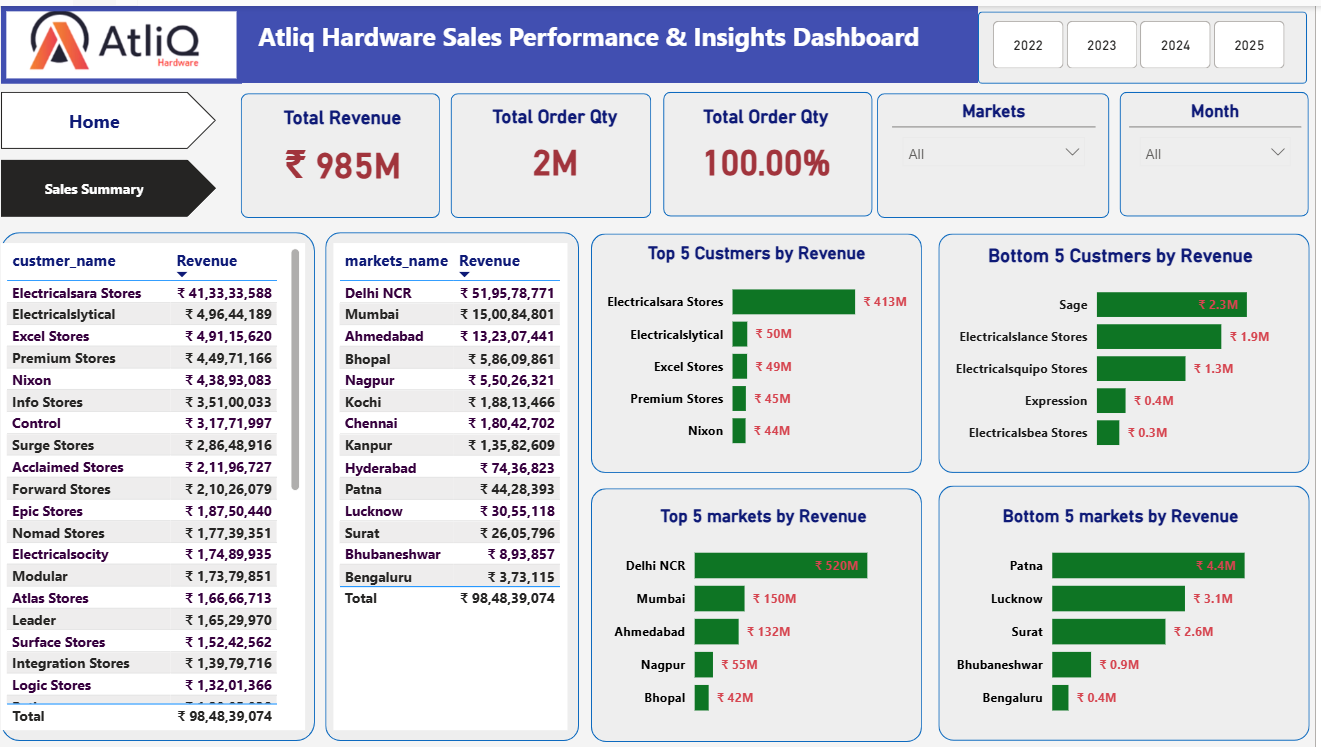

Layout of this report page (visuals, bound fields, positions):
{"tool":"powerbi","page":{"name":"Sales Summary","canvas":[1280,720],"ordinal":1},"visuals":[{"type":"textbox","box":[145.8,0,809.8,74.5],"z":0},{"type":"image","box":[13.8,0,231.9,74.5],"z":1000},{"type":"shape","box":[13.8,218.1,302.3,490],"z":2000},{"type":"shape","box":[327.1,218.1,244.3,490],"z":3000},{"type":"shape","box":[245.7,84.2,191.9,120.1],"z":4000},{"type":"shape","box":[955.6,4.8,316.9,69.7],"z":5000},{"type":"shape","box":[447.2,84.2,193.2,120.1],"z":6000},{"type":"advancedSlicerVisual","fields":{"Values":["transactions.year"]},"box":[969.9,9.5,286.8,55.5],"z":7000},{"type":"tableEx","fields":{"Values":["customers.custmer_name","transactions.Revenue"]},"box":[13.8,227.7,292.6,469.3],"z":8000},{"type":"tableEx","fields":{"Values":["markets.markets_name","transactions.Revenue"]},"box":[334.4,228.2,225,469.1],"z":9000},{"type":"shape","box":[582.5,219.5,318.8,230.5],"z":10000},{"type":"shape","box":[916.5,219.5,357.5,230.5],"z":11000},{"type":"shape","box":[582.5,463.8,318.8,244.3],"z":12000},{"type":"shape","box":[916.5,462.4,357.5,245.7],"z":13000},{"type":"barChart","title":"Top 5 Custmers by  Revenue ","fields":{"Category":["customers.custmer_name"],"Y":["transactions.Revenue"]},"box":[591.1,228.2,301.1,210.8],"z":14000},{"type":"barChart","title":"Bottom 5 Custmers by Revenue","fields":{"Category":["customers.custmer_name"],"Y":["transactions.Revenue"]},"box":[927.5,229.1,329.9,211.2],"z":15000},{"type":"barChart","title":"Top 5 markets by Revenue","fields":{"Y":["transactions.Revenue"],"Category":["markets.markets_name"]},"box":[597.7,481.7,300.9,215.3],"z":16000},{"type":"barChart","title":"Bottom 5 markets by Revenue","fields":{"Y":["transactions.Revenue"],"Category":["markets.markets_name"]},"box":[927.5,481.7,329.9,215.3],"z":17000},{"type":"card","title":"Total Revenue","fields":{"Values":["transactions.Revenue"]},"box":[258.1,92.5,169.8,99.4],"z":18000},{"type":"card","title":"Total Order Qty","fields":{"Values":["transactions.Total_orders_qty"]},"box":[465.1,91.1,164.3,100.8],"z":19000},{"type":"pageNavigator","box":[13.8,82.8,207,121.5],"z":20000},{"type":"shape","box":[651.5,82.8,201.5,120.1],"z":21000},{"type":"card","title":"Total Order Qty","fields":{"Values":["transactions.Sales_Percentage"]},"box":[661.1,91.1,179.4,100.8],"z":22000},{"type":"shape","box":[858.5,84.2,223.6,120.1],"z":23000},{"type":"shape","box":[1091.8,82.8,182.2,120.1],"z":24000},{"type":"slicer","title":"Markets","fields":{"Values":["markets.markets_name"]},"box":[872.3,92.5,196,104.9],"z":25000},{"type":"slicer","title":"Month","fields":{"Values":["DimDate.Month_Name"]},"box":[1100.1,92.5,165.6,106.3],"z":26000}]}

Visuals, with their boxes in screenshot pixels (x1, y1, x2, y2), scaled from the page's 1280x720 canvas onto the 1321x747 screenshot:
textbox: bbox(150, 0, 986, 77)
image: bbox(14, 0, 254, 77)
shape: bbox(14, 226, 326, 735)
shape: bbox(338, 226, 590, 735)
shape: bbox(254, 87, 452, 212)
shape: bbox(986, 5, 1313, 77)
shape: bbox(462, 87, 661, 212)
advancedSlicerVisual - transactions.year: bbox(1001, 10, 1297, 67)
tableEx - customers.custmer_name x transactions.Revenue: bbox(14, 236, 316, 723)
tableEx - markets.markets_name x transactions.Revenue: bbox(345, 237, 577, 723)
shape: bbox(601, 228, 930, 467)
shape: bbox(946, 228, 1315, 467)
shape: bbox(601, 481, 930, 735)
shape: bbox(946, 480, 1315, 735)
"Top 5 Custmers by  Revenue " barChart: bbox(610, 237, 921, 455)
"Bottom 5 Custmers by Revenue" barChart: bbox(957, 238, 1298, 457)
"Top 5 markets by Revenue" barChart: bbox(617, 500, 927, 723)
"Bottom 5 markets by Revenue" barChart: bbox(957, 500, 1298, 723)
"Total Revenue" card: bbox(266, 96, 442, 199)
"Total Order Qty" card: bbox(480, 95, 650, 199)
pageNavigator: bbox(14, 86, 228, 212)
shape: bbox(672, 86, 880, 211)
"Total Order Qty" card: bbox(682, 95, 867, 199)
shape: bbox(886, 87, 1117, 212)
shape: bbox(1127, 86, 1315, 211)
"Markets" slicer: bbox(900, 96, 1103, 205)
"Month" slicer: bbox(1135, 96, 1306, 206)
